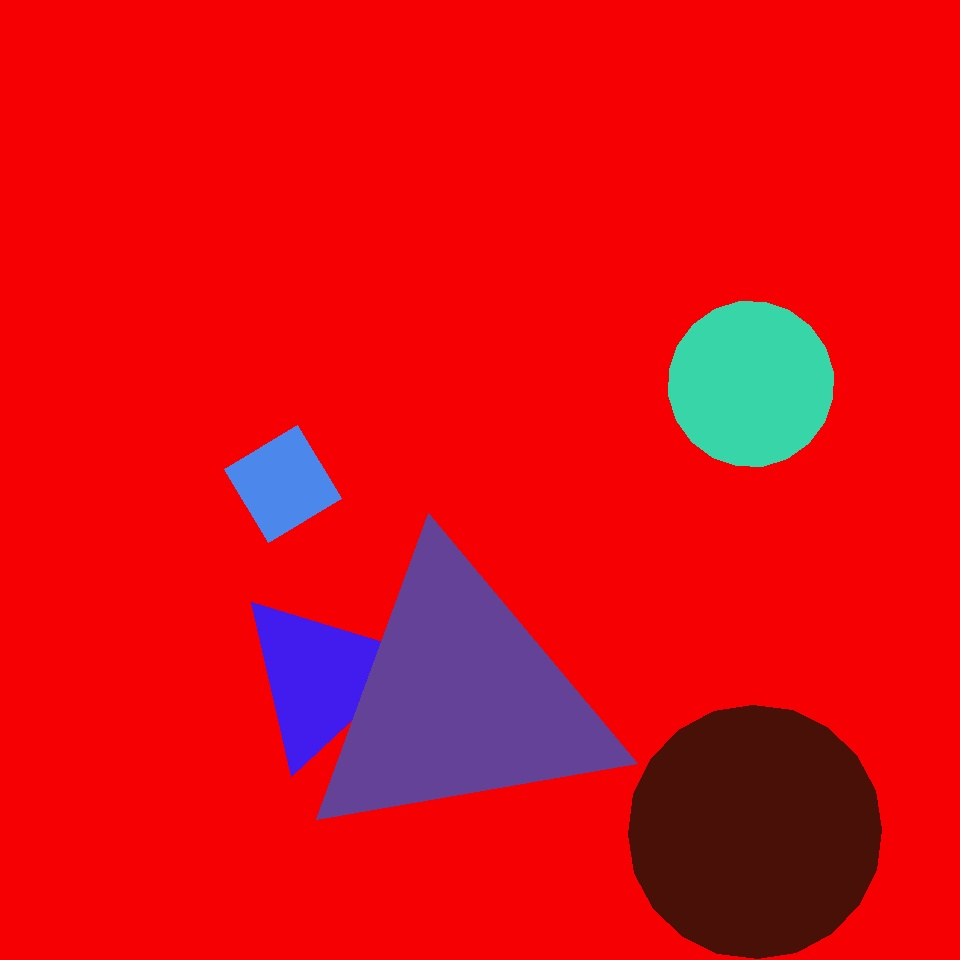circle: (300, 546, 622, 852), (236, 591, 407, 765)
square: (224, 426, 342, 542)
triangle: (629, 706, 882, 959), (668, 302, 834, 466)
